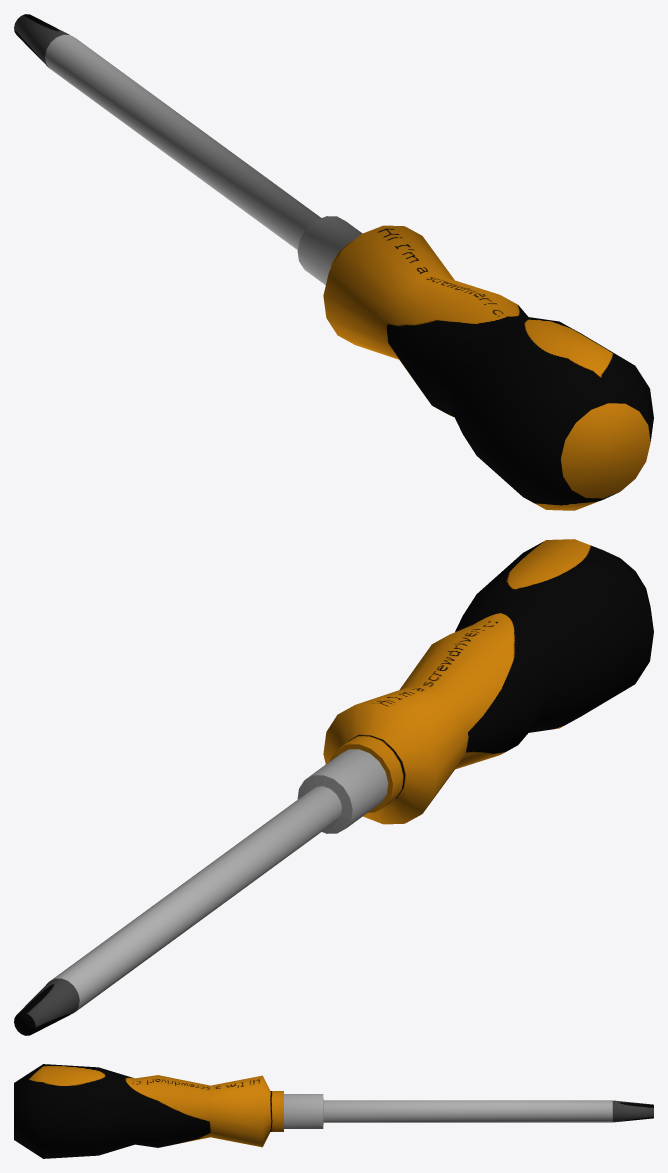
The model's file is screwdriver.glb.
The picture shows the model from 3 angles, top to bottom: view 1: azimuth 30°, elevation 25°; view 2: azimuth 150°, elevation 25°; view 3: azimuth 270°, elevation 25°; orthographic projection. The views are drawn at different scales.
Parts seen in each view (by area): view 1: Cylinder; view 2: Cylinder; view 3: Cylinder.
Part boxes in pixels (<box>): Cylinder: <box>14,14,653,510</box>; Cylinder: <box>14,539,653,1035</box>; Cylinder: <box>14,1064,653,1158</box>.
Size of the model in its own units: 0.5508 by 0.5508 by 3.7.
1 material, 1 textured.
